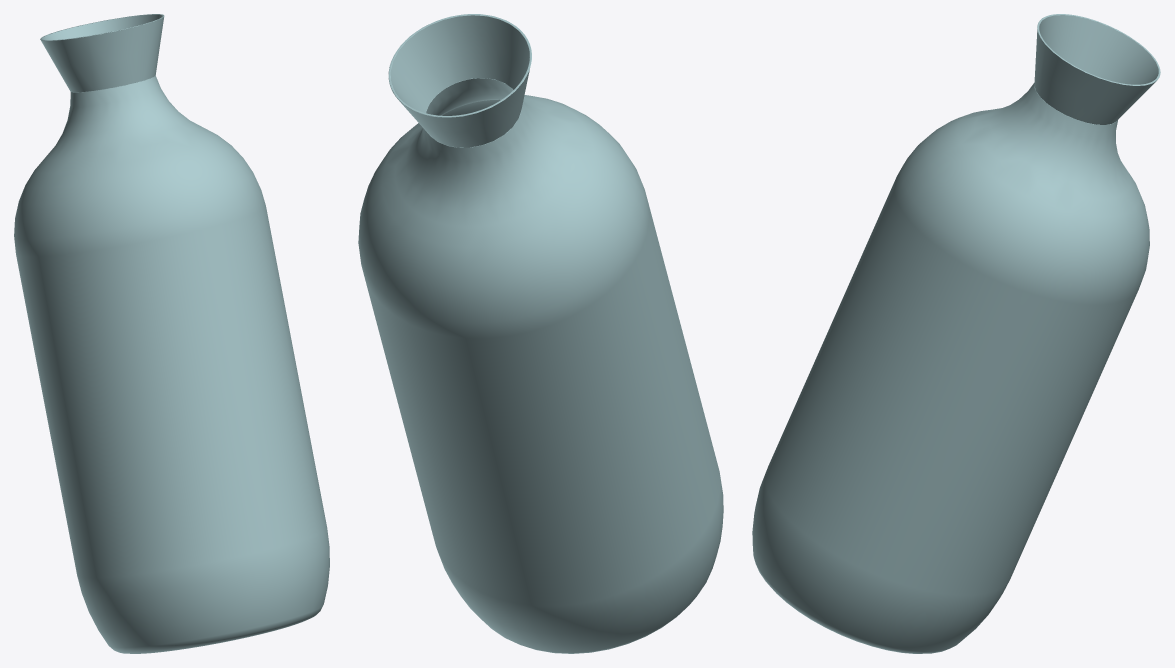
Rendered from vase_single.glb.
3 views of the same model, side by side, from view 1: azimuth 30°, elevation 25°; view 2: azimuth 150°, elevation 25°; view 3: azimuth 270°, elevation 25° (orthographic). The views are drawn at different scales.
Parts seen in each view (by area): view 1: Object_2; view 2: Object_2; view 3: Object_2.
Boxes of the visible parts, <box> form: Object_2: <box>14,14,329,653</box>; Object_2: <box>358,14,723,653</box>; Object_2: <box>752,14,1160,653</box>.
Size of the model in its own units: 75.44 by 188 by 115.
Materials: 1 (1 with a texture image).
